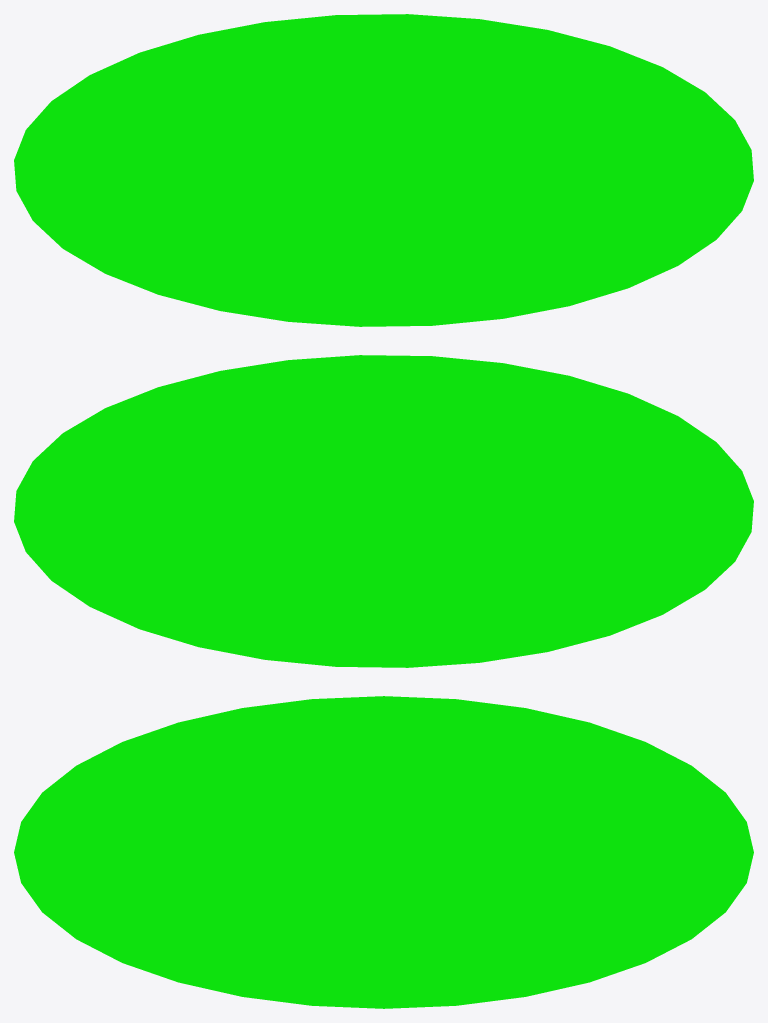
Rendered from circle-debug.glb.
3 views of the same model, one above another, from view 1: azimuth 30°, elevation 25°; view 2: azimuth 150°, elevation 25°; view 3: azimuth 270°, elevation 25° (orthographic).
Visible parts, largest first — view 1: Circle; view 2: Circle; view 3: Circle.
Boxes of the visible parts, x1,y1,x2,y2 form: Circle: [14, 14, 753, 326]; Circle: [14, 355, 753, 667]; Circle: [14, 696, 753, 1008].
Bounding box in the file's own units: 2 × 0 × 2.
